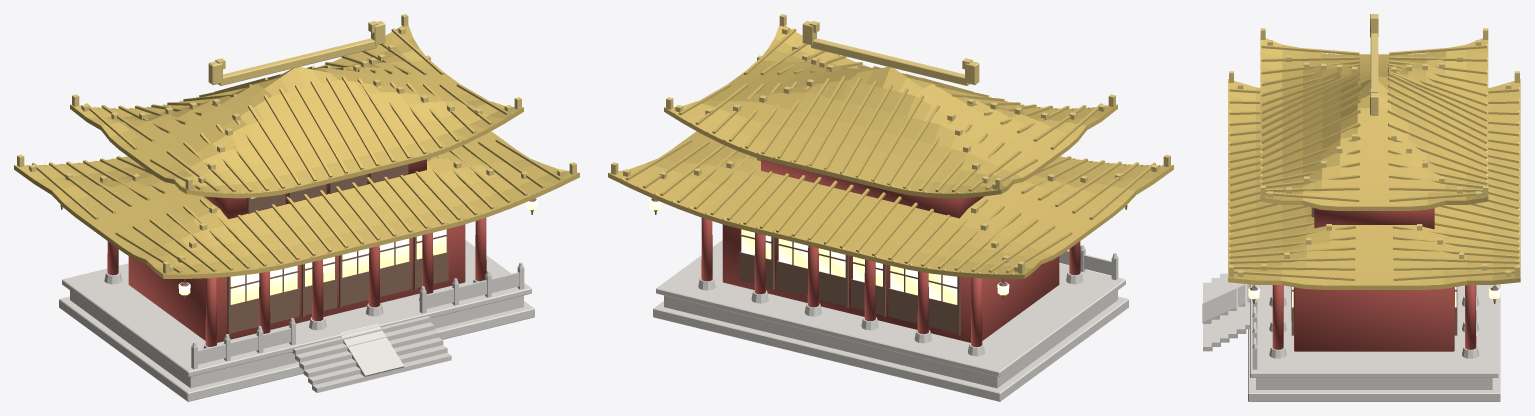
Rendered from kongmiao-hall.glb.
The picture shows the model from 3 angles, left to right: view 1: azimuth 30°, elevation 25°; view 2: azimuth 150°, elevation 25°; view 3: azimuth 270°, elevation 25°; orthographic projection. The views are drawn at different scales.
Parts seen in each view (by area): view 1: km_gold_tile, km_marble, km_red, km_wood, km_gold, km_glow; view 2: km_gold_tile, km_marble, km_red, km_wood, km_gold, km_glow; view 3: km_gold_tile, km_marble, km_red, km_gold, km_wood, km_glow.
Part boxes in pixels (x1,y1,x2,y2): km_gold_tile: [14, 25, 579, 278]; km_marble: [59, 240, 534, 401]; km_red: [107, 159, 486, 346]; km_wood: [60, 164, 536, 335]; km_gold: [17, 14, 576, 274]; km_glow: [56, 197, 538, 304]; km_gold_tile: [608, 25, 1173, 278]; km_marble: [653, 240, 1128, 401]; km_red: [701, 159, 1080, 347]; km_wood: [651, 198, 1127, 335]; km_gold: [611, 14, 1170, 274]; km_glow: [649, 198, 1131, 304]; km_gold_tile: [1228, 36, 1520, 289]; km_marble: [1202, 273, 1500, 401]; km_red: [1272, 208, 1476, 351]; km_gold: [1228, 14, 1519, 277]; km_wood: [1250, 207, 1498, 335]; km_glow: [1248, 287, 1500, 307].
Size of the model in its own units: 23.48 by 14.61 by 15.88.
